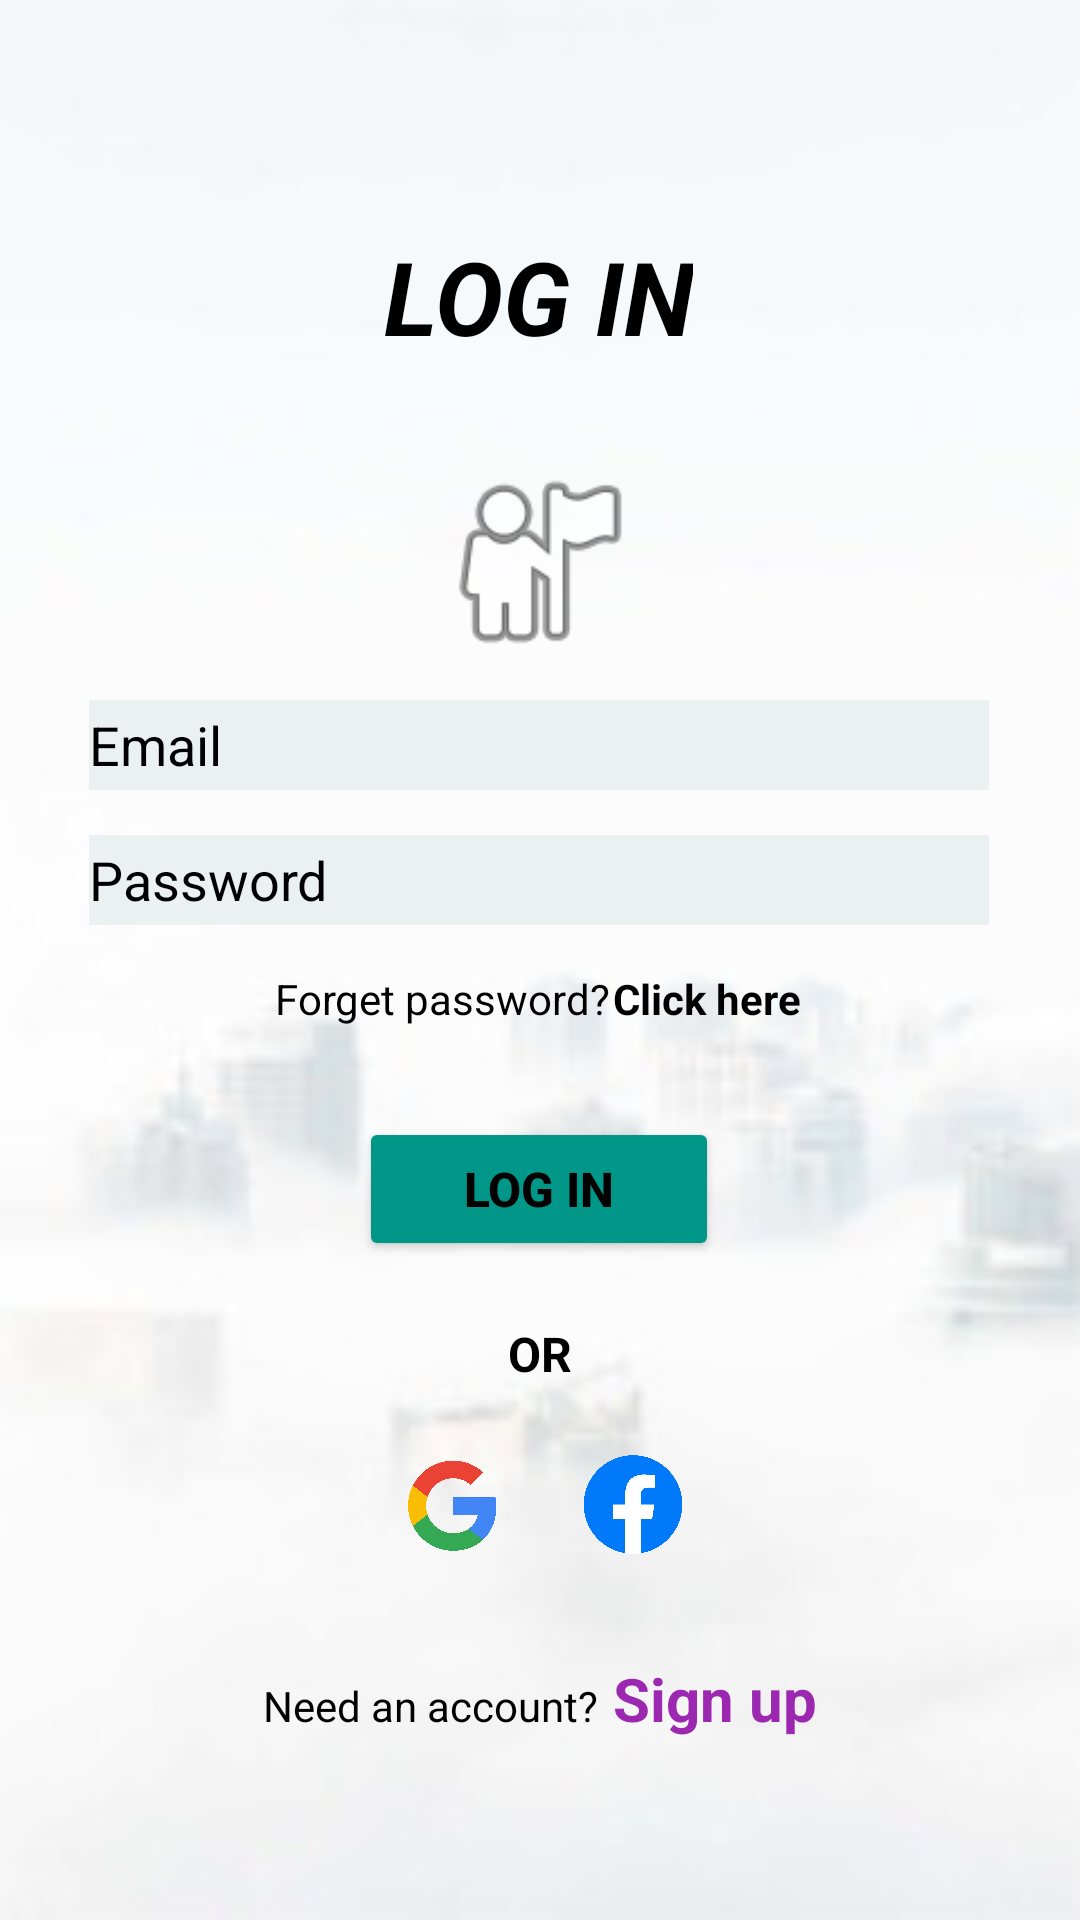

Screen size 1080 × 1920. Icon name, then its center in pixels as (x=x, y=y):
myplaces: (x=540, y=562)
